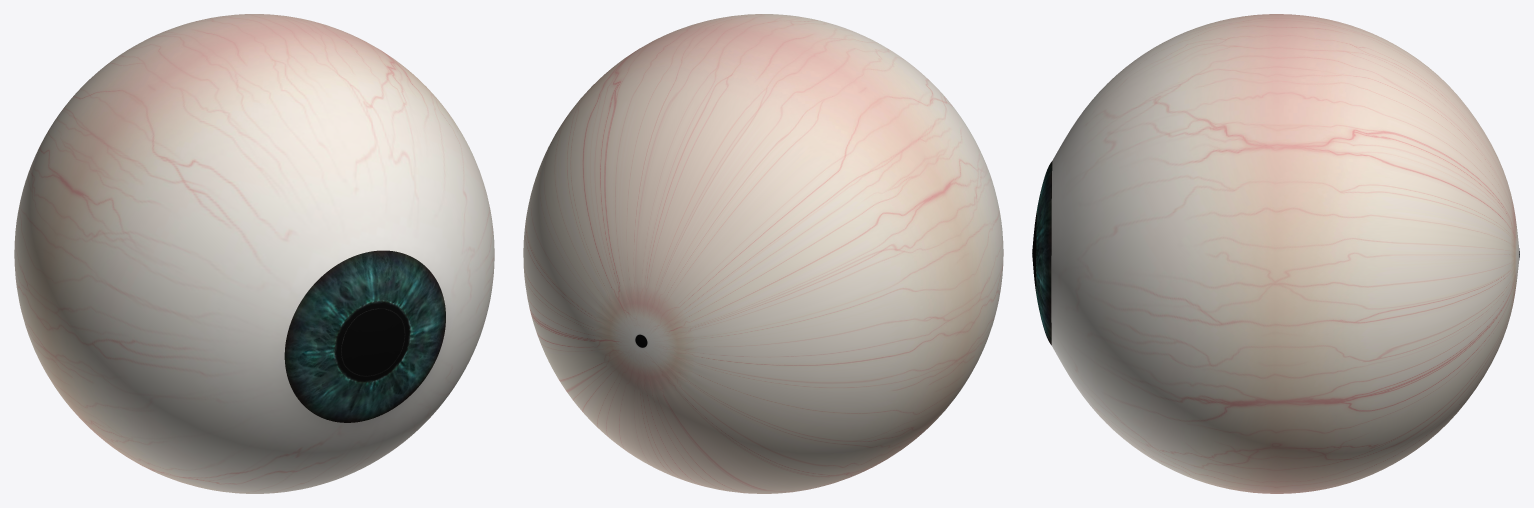
File: eye.glb
3 views of the same model, side by side, from view 1: azimuth 30°, elevation 25°; view 2: azimuth 150°, elevation 25°; view 3: azimuth 270°, elevation 25° (orthographic).
Visible parts, largest first — view 1: eyeball_1_eye_1, eyeball_1.003_eye_1.003; view 2: eyeball_1_eye_1; view 3: eyeball_1_eye_1, eyeball_1.003_eye_1.003.
Part boxes in pixels (<box>): eyeball_1_eye_1: <box>14,14,494,493</box>; eyeball_1.003_eye_1.003: <box>284,250,445,422</box>; eyeball_1_eye_1: <box>523,14,1003,493</box>; eyeball_1_eye_1: <box>1051,14,1519,493</box>; eyeball_1.003_eye_1.003: <box>1032,161,1052,345</box>.
Size of the model in its own units: 3.86 by 3.86 by 3.92.
Materials: 4 (2 with a texture image).
